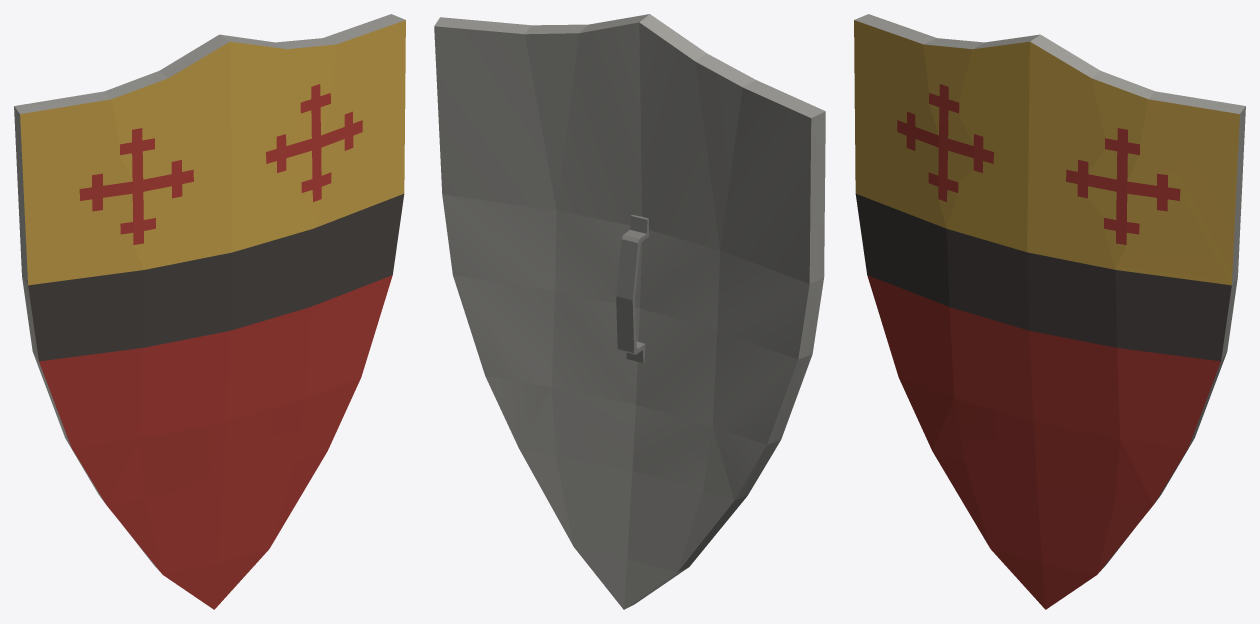
File: SM_pwe_medieval_shield_07d.fbx
The picture shows the model from 3 angles, left to right: view 1: azimuth 30°, elevation 25°; view 2: azimuth 150°, elevation 25°; view 3: azimuth 330°, elevation 25°; orthographic projection.
Parts seen in each view (by area): view 1: SM_pwe_medieval_shield_07d; view 2: SM_pwe_medieval_shield_07d; view 3: SM_pwe_medieval_shield_07d.
Boxes of the visible parts, x1,y1,x2,y2 form: SM_pwe_medieval_shield_07d: (14,14,405,609); SM_pwe_medieval_shield_07d: (434,14,825,609); SM_pwe_medieval_shield_07d: (854,14,1245,609).
Size of the model in its own units: 63.01 by 90.45 by 8.5.
